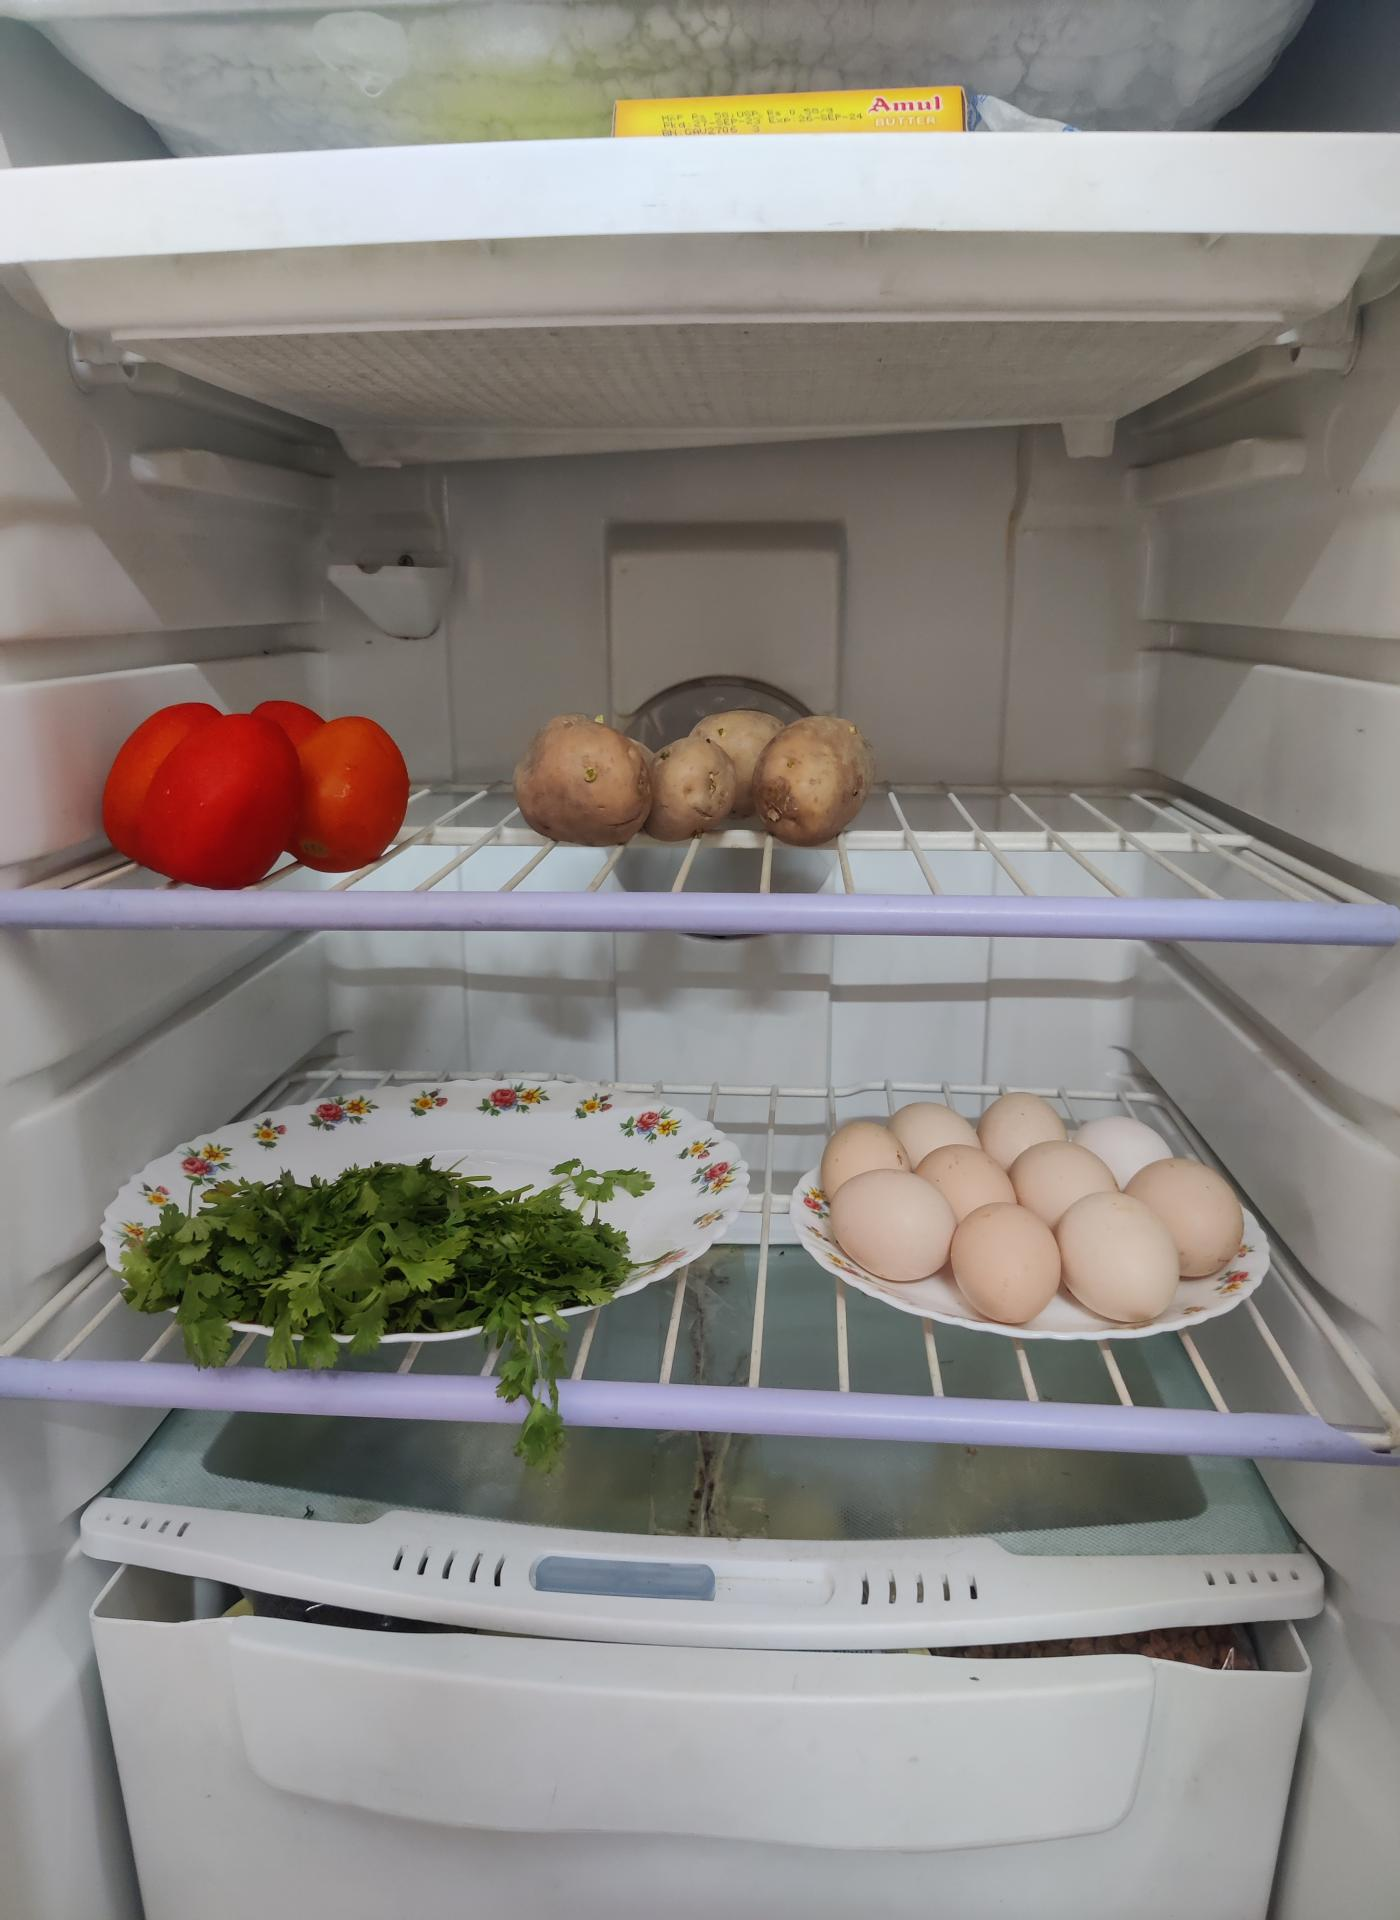coriander: (118, 1163, 634, 1364)
egg: (799, 1099, 1242, 1333)
potato: (519, 711, 880, 857)
tomato: (107, 702, 416, 890)
